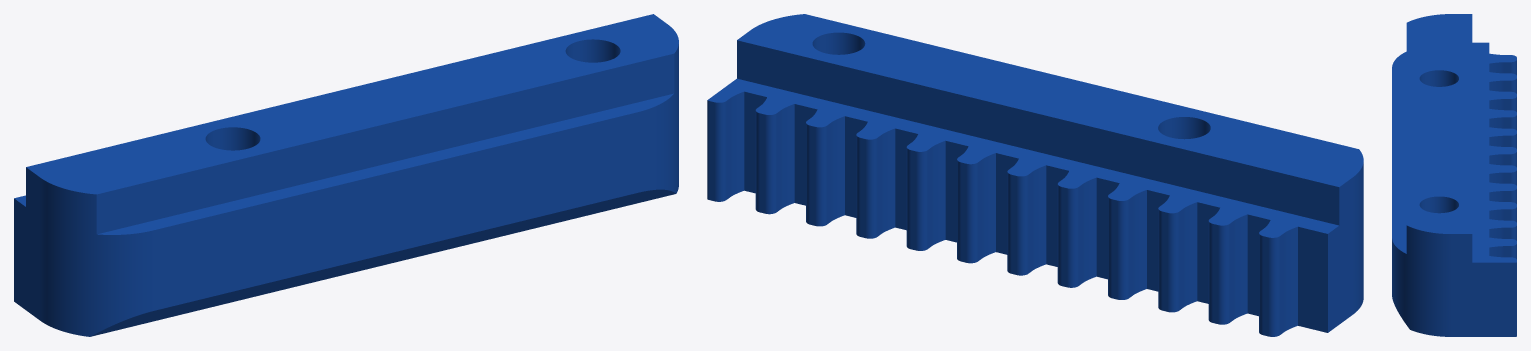
Rendered from Assembly 2 - Rack gear_1.obj.
3 views of the same model, side by side, from view 1: azimuth 30°, elevation 25°; view 2: azimuth 150°, elevation 25°; view 3: azimuth 270°, elevation 25° (orthographic). The views are drawn at different scales.
Visible parts, largest first — view 1: mesh129, mesh1, mesh125, mesh126, mesh130, mesh128, mesh127, mesh5, mesh2, mesh0; view 2: mesh1, mesh3, mesh120, mesh5, mesh123, mesh126, mesh112, mesh22, mesh52, mesh82, mesh72, mesh102 (+66 smaller); view 3: mesh1, mesh120, mesh127, mesh4, mesh128, mesh0, mesh2, mesh83, mesh113, mesh33, mesh53, mesh23 (+6 smaller).
Boxes of the visible parts, bbox=[...] form: mesh129: bbox=[153, 112, 637, 310]; mesh1: bbox=[26, 14, 678, 194]; mesh125: bbox=[96, 53, 674, 234]; mesh126: bbox=[40, 178, 153, 336]; mesh130: bbox=[90, 189, 675, 336]; mesh128: bbox=[98, 93, 673, 234]; mesh127: bbox=[637, 44, 678, 193]; mesh5: bbox=[14, 167, 40, 320]; mesh2: bbox=[205, 127, 260, 150]; mesh0: bbox=[565, 39, 620, 62]; mesh1: bbox=[737, 14, 1363, 186]; mesh3: bbox=[737, 40, 1339, 225]; mesh120: bbox=[707, 78, 1338, 237]; mesh5: bbox=[1328, 177, 1352, 332]; mesh123: bbox=[1298, 226, 1327, 332]; mesh126: bbox=[1353, 162, 1363, 314]; mesh112: bbox=[1247, 214, 1270, 316]; mesh22: bbox=[794, 104, 817, 205]; mesh52: bbox=[945, 141, 968, 242]; mesh82: bbox=[1096, 177, 1119, 279]; mesh72: bbox=[1046, 165, 1068, 266]; mesh102: bbox=[1197, 202, 1219, 303]; mesh1: bbox=[1406, 14, 1472, 233]; mesh120: bbox=[1472, 42, 1516, 262]; mesh127: bbox=[1392, 225, 1451, 336]; mesh4: bbox=[1452, 234, 1516, 336]; mesh128: bbox=[1392, 51, 1406, 253]; mesh0: bbox=[1419, 196, 1458, 213]; mesh2: bbox=[1419, 70, 1458, 86]; mesh83: bbox=[1489, 117, 1500, 128]; mesh113: bbox=[1489, 62, 1500, 73]; mesh33: bbox=[1489, 209, 1500, 220]; mesh53: bbox=[1489, 172, 1500, 183]; mesh23: bbox=[1489, 228, 1500, 238].
Bounding box in the file's own units: 0.0436 × 0.0095 × 0.0104.
